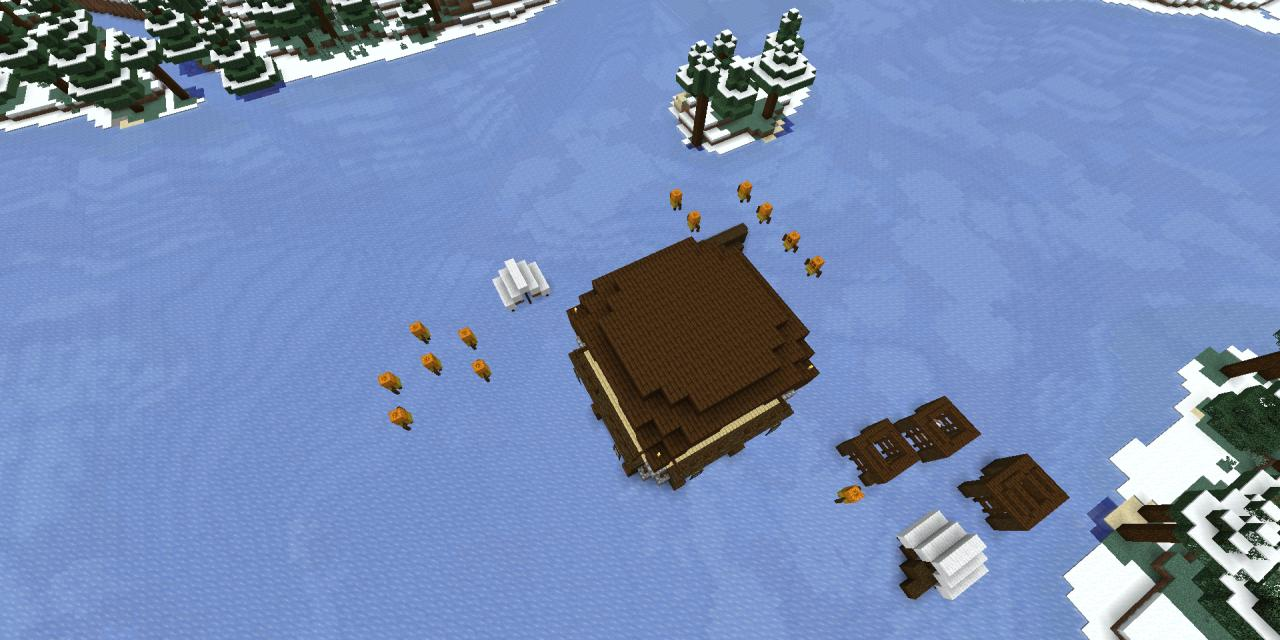pillager outpost: (557, 228, 834, 495)
